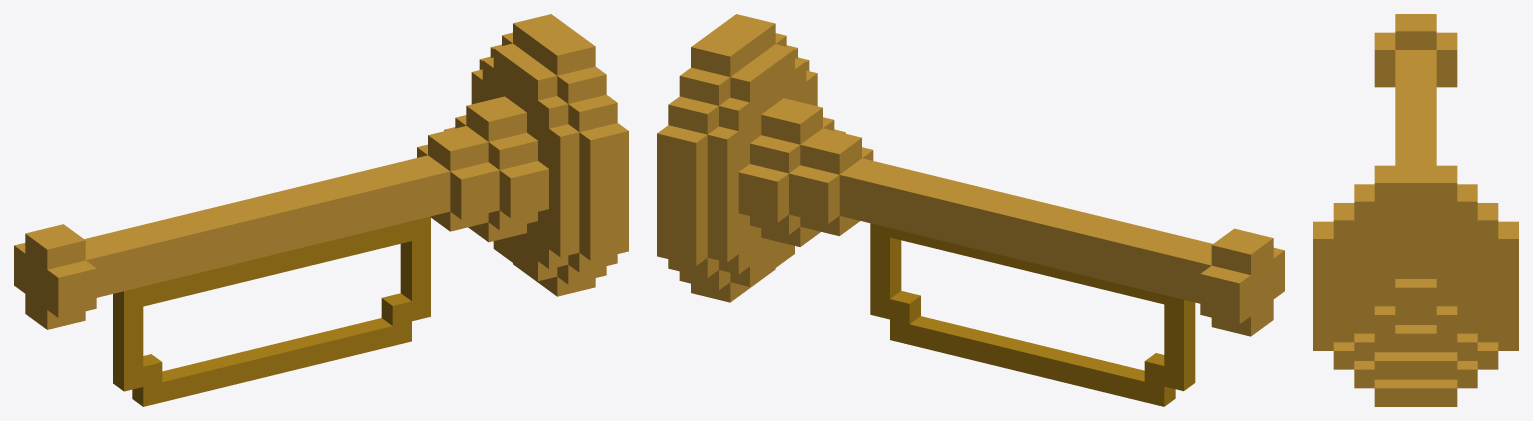
The model's file is bugle.obj.
The picture shows the model from 3 angles, left to right: view 1: azimuth 30°, elevation 25°; view 2: azimuth 150°, elevation 25°; view 3: azimuth 270°, elevation 25°; orthographic projection. The views are drawn at different scales.
Size of the model in its own units: 2.8 by 1.3 by 1.
1 material, 1 textured.
